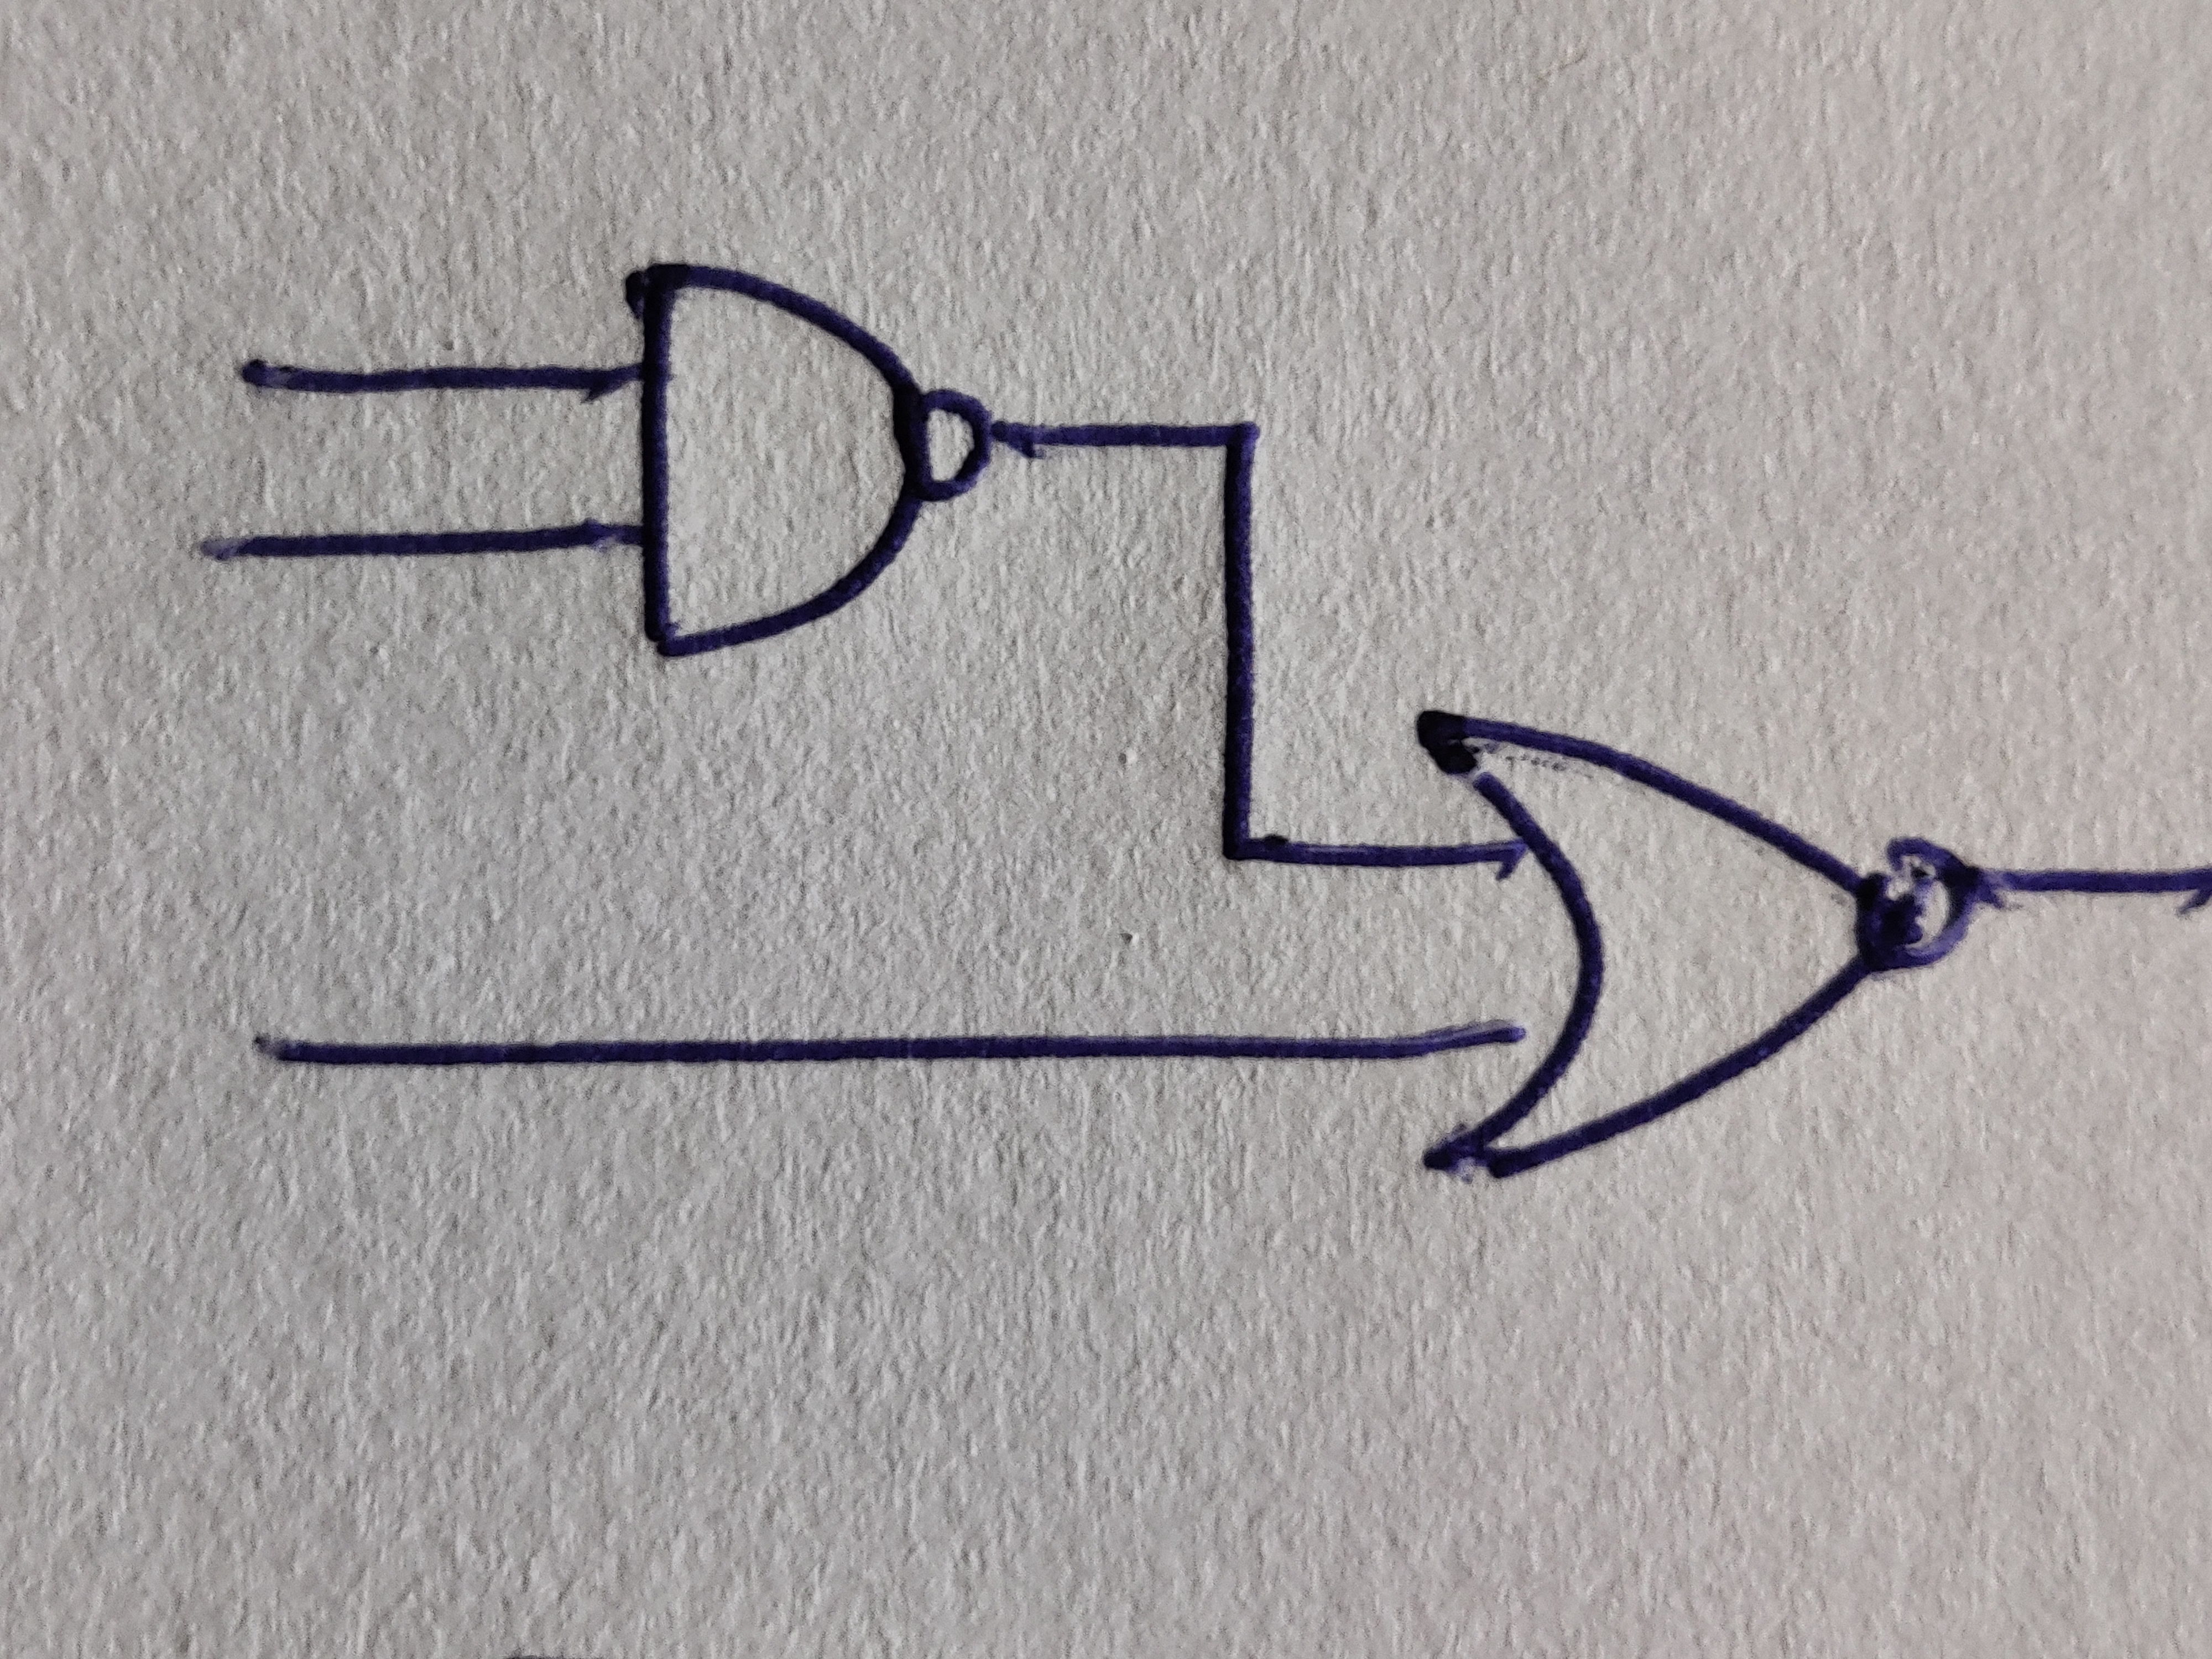and: (627, 267, 928, 660)
not: (1857, 840, 1973, 969), (913, 390, 993, 502)
or: (1421, 711, 1916, 1182)
